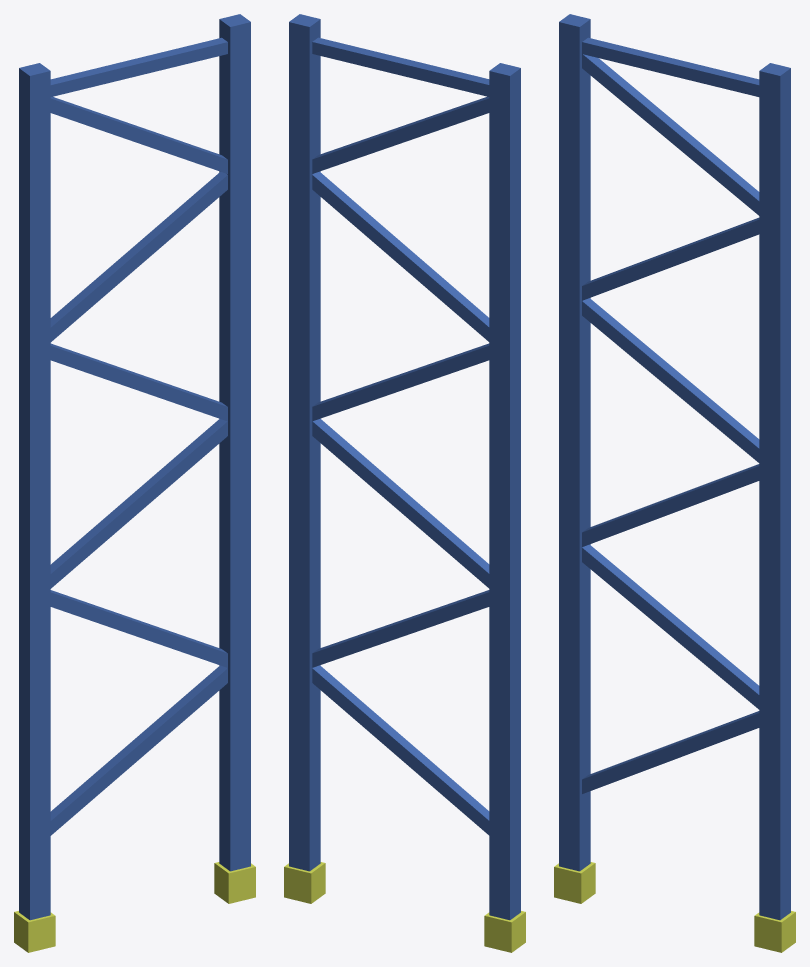
Rendered from SM_Rack_01.fbx.
The picture shows the model from 3 angles, left to right: view 1: azimuth 30°, elevation 25°; view 2: azimuth 150°, elevation 25°; view 3: azimuth 330°, elevation 25°; orthographic projection.
Parts seen in each view (by area): view 1: SM_Rack_01; view 2: SM_Rack_01; view 3: SM_Rack_01.
Part boxes in pixels (bbox=[...]): SM_Rack_01: bbox=[14, 14, 255, 952]; SM_Rack_01: bbox=[284, 14, 525, 952]; SM_Rack_01: bbox=[554, 14, 795, 952].
Size of the model in its own units: 115 by 422 by 12.48.
